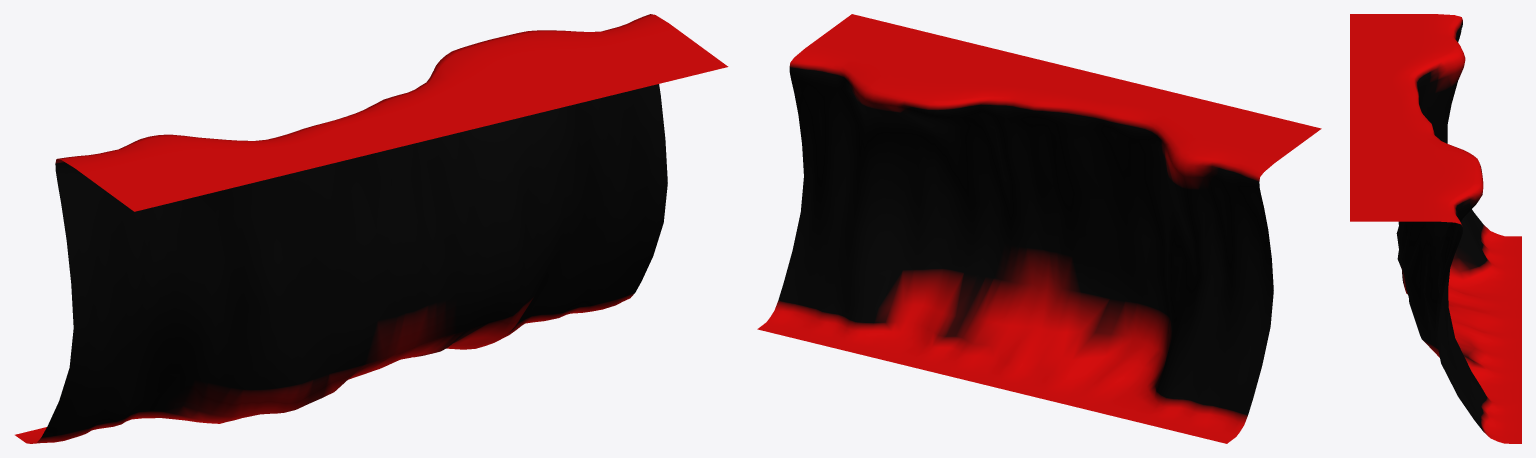
Rendered from GroundCliff02B 2M Foreground.fbx.
3 views of the same model, side by side, from view 1: azimuth 30°, elevation 25°; view 2: azimuth 150°, elevation 25°; view 3: azimuth 270°, elevation 25° (orthographic). The views are drawn at different scales.
Visible parts, largest first — view 1: GroundCliff02B 2M Foreground; view 2: GroundCliff02B 2M Foreground; view 3: GroundCliff02B 2M Foreground.
Part boxes in pixels (x1,y1,x2,y2): GroundCliff02B 2M Foreground: (15,14,728,443); GroundCliff02B 2M Foreground: (757,14,1321,443); GroundCliff02B 2M Foreground: (1350,14,1521,443).
Size of the model in its own units: 4 by 2 by 1.4.
